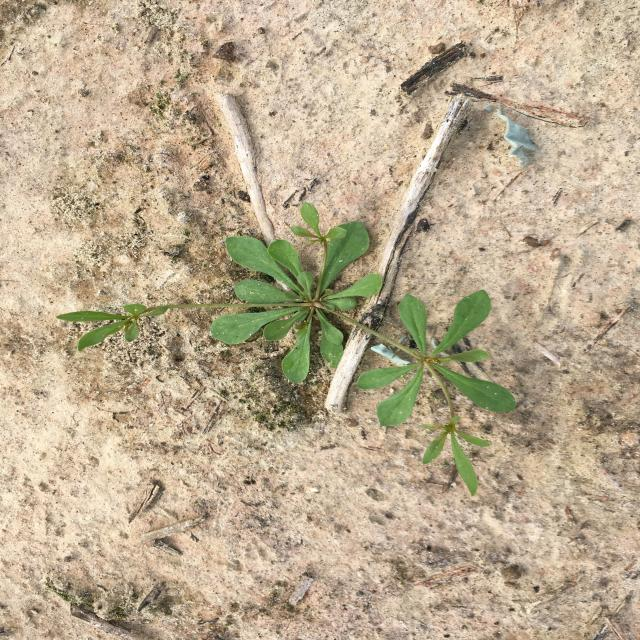Carpetweed: (56, 202, 515, 496)
